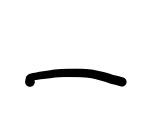minus: (25, 68, 127, 87)
